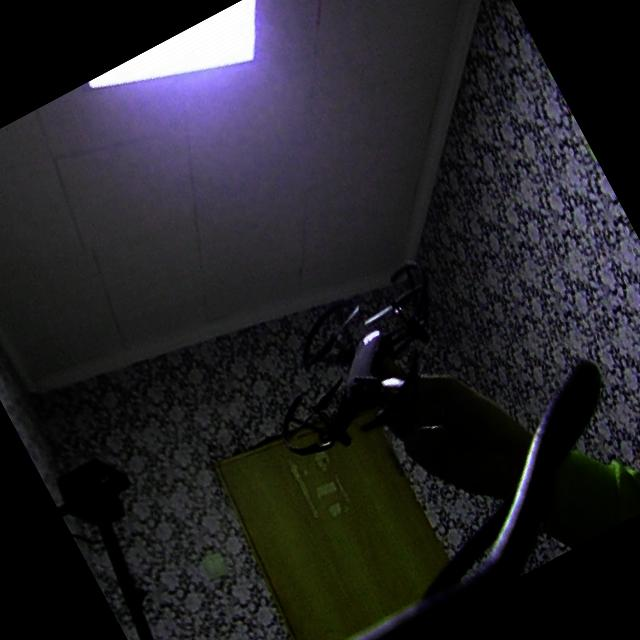drone: (235, 252, 492, 488)
